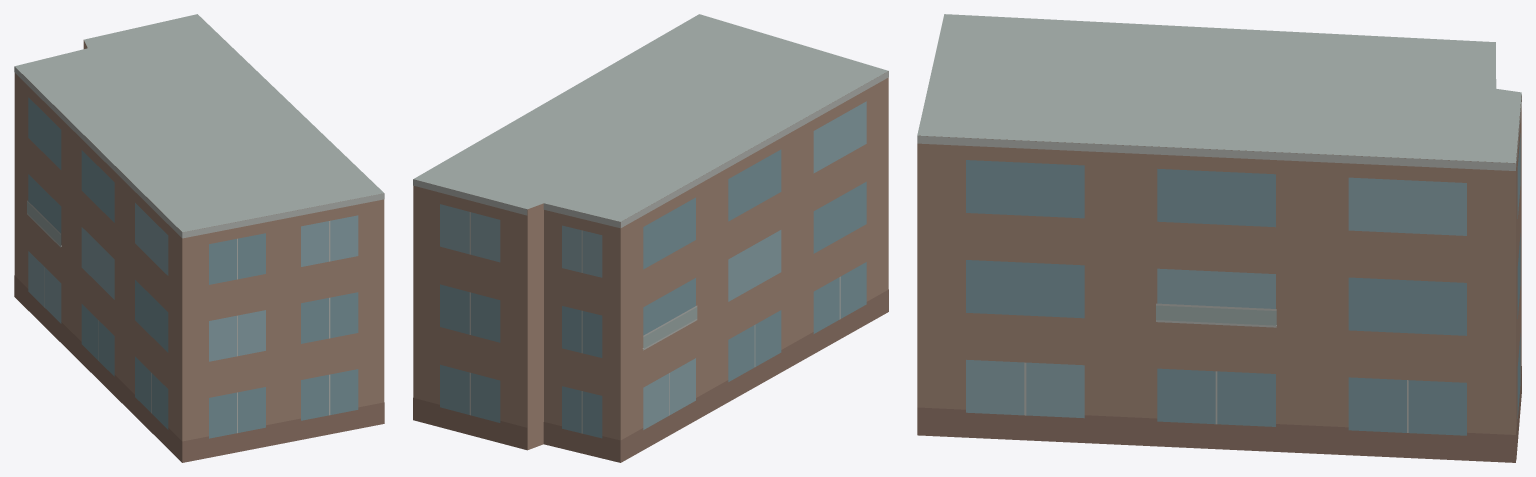
Rendered from survey-upis-32520519.glb.
3 renders of one model, left to right at view 1: azimuth 30°, elevation 25°; view 2: azimuth 150°, elevation 25°; view 3: azimuth 270°, elevation 25°, orthographic. The views are drawn at different scales.
Parts seen in each view (by area): view 1: survey-upis-32520519.tmp; view 2: survey-upis-32520519.tmp; view 3: survey-upis-32520519.tmp.
Part boxes in pixels (x1=…): survey-upis-32520519.tmp: x1=14, y1=14, x2=384, y2=462; survey-upis-32520519.tmp: x1=413, y1=14, x2=888, y2=462; survey-upis-32520519.tmp: x1=917, y1=14, x2=1521, y2=462.
Size of the model in its own units: 9.77 by 9.15 by 16.74.
